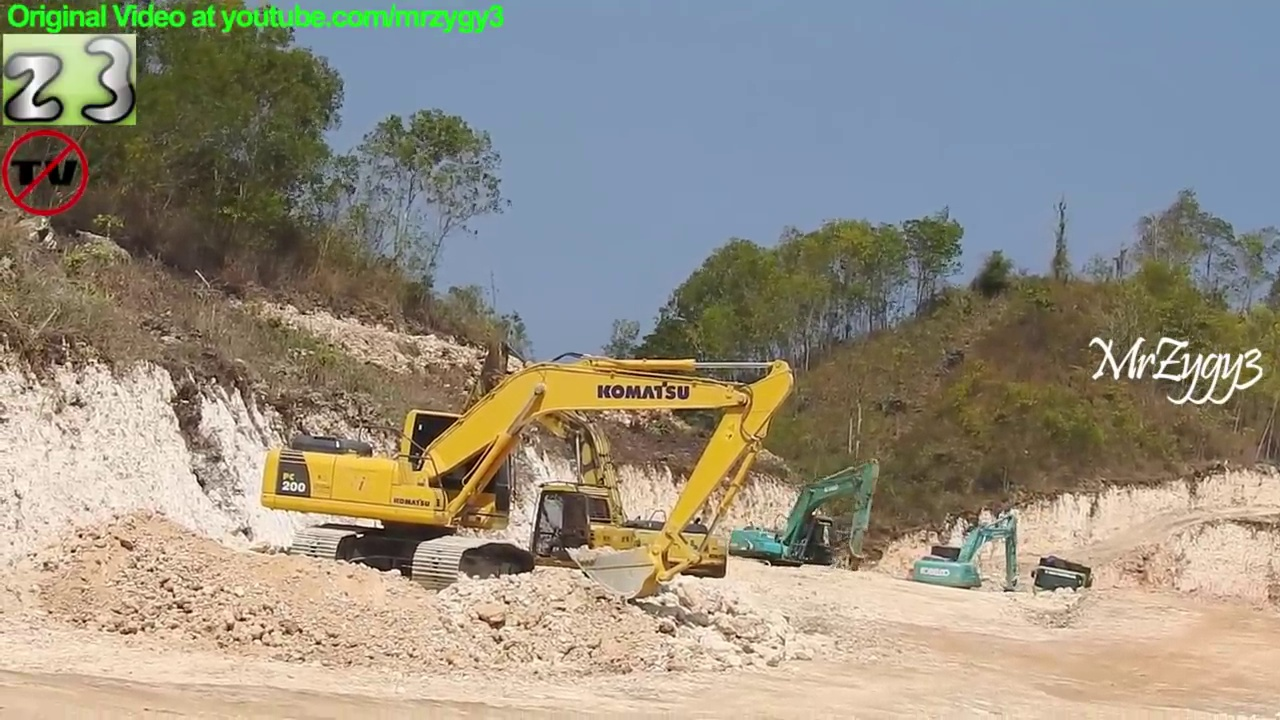excavator: (257, 347, 799, 612), (429, 344, 738, 605), (723, 455, 885, 592), (903, 509, 1023, 609)
truck: (1027, 551, 1098, 620)
